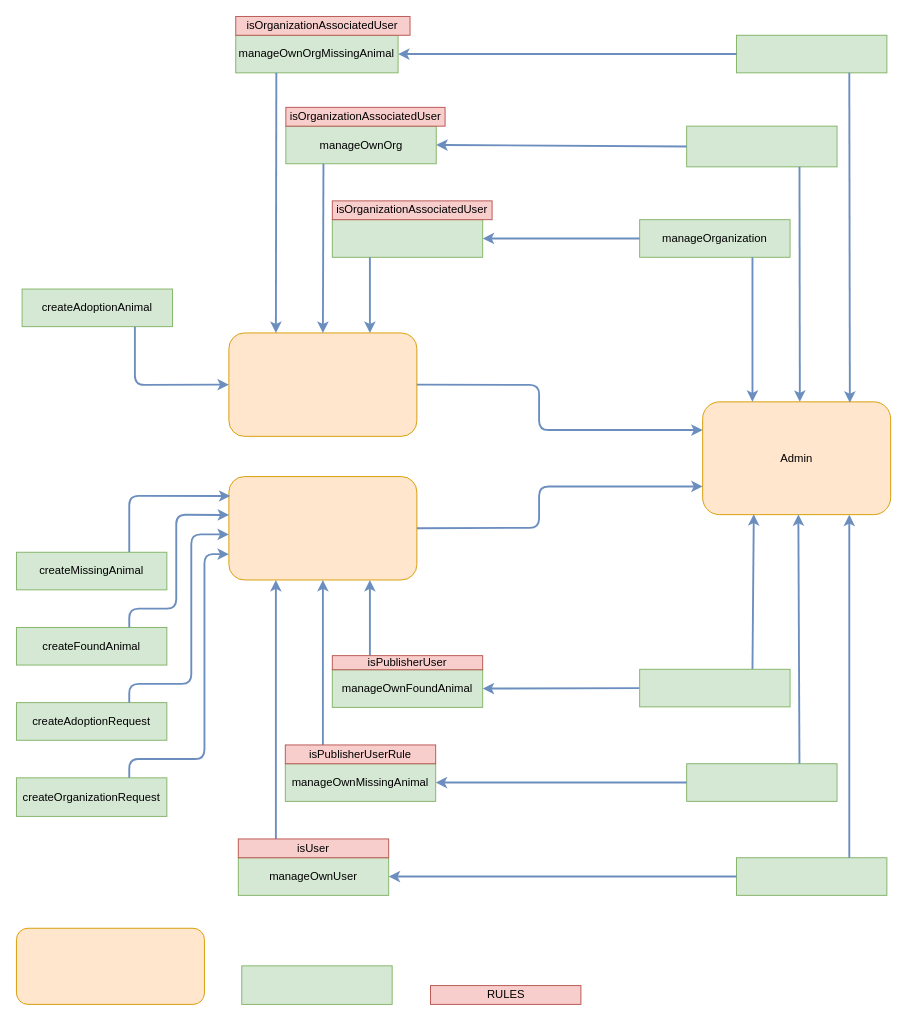
Some shapes in this 907 by 1021 pixel diagram are drawn without their labels. The shapes that lost their labels are listed below. From the top down, each one's box as (x1, y1, x2, y2) in pixels, then its label:
(736, 34, 887, 73): manageAdoptionAnimal
(686, 125, 837, 167): manageAdoption
(331, 219, 483, 257): manageOwnOrgAdoption
(228, 332, 417, 436): AssociateUser
(228, 476, 417, 580): User
(639, 668, 790, 707): manageFoundAnimal
(686, 763, 837, 801): manageMissingAnimal
(736, 857, 887, 895): manageUser
(16, 927, 204, 1004): ROLES
(241, 965, 392, 1004): PERMISSIONS
